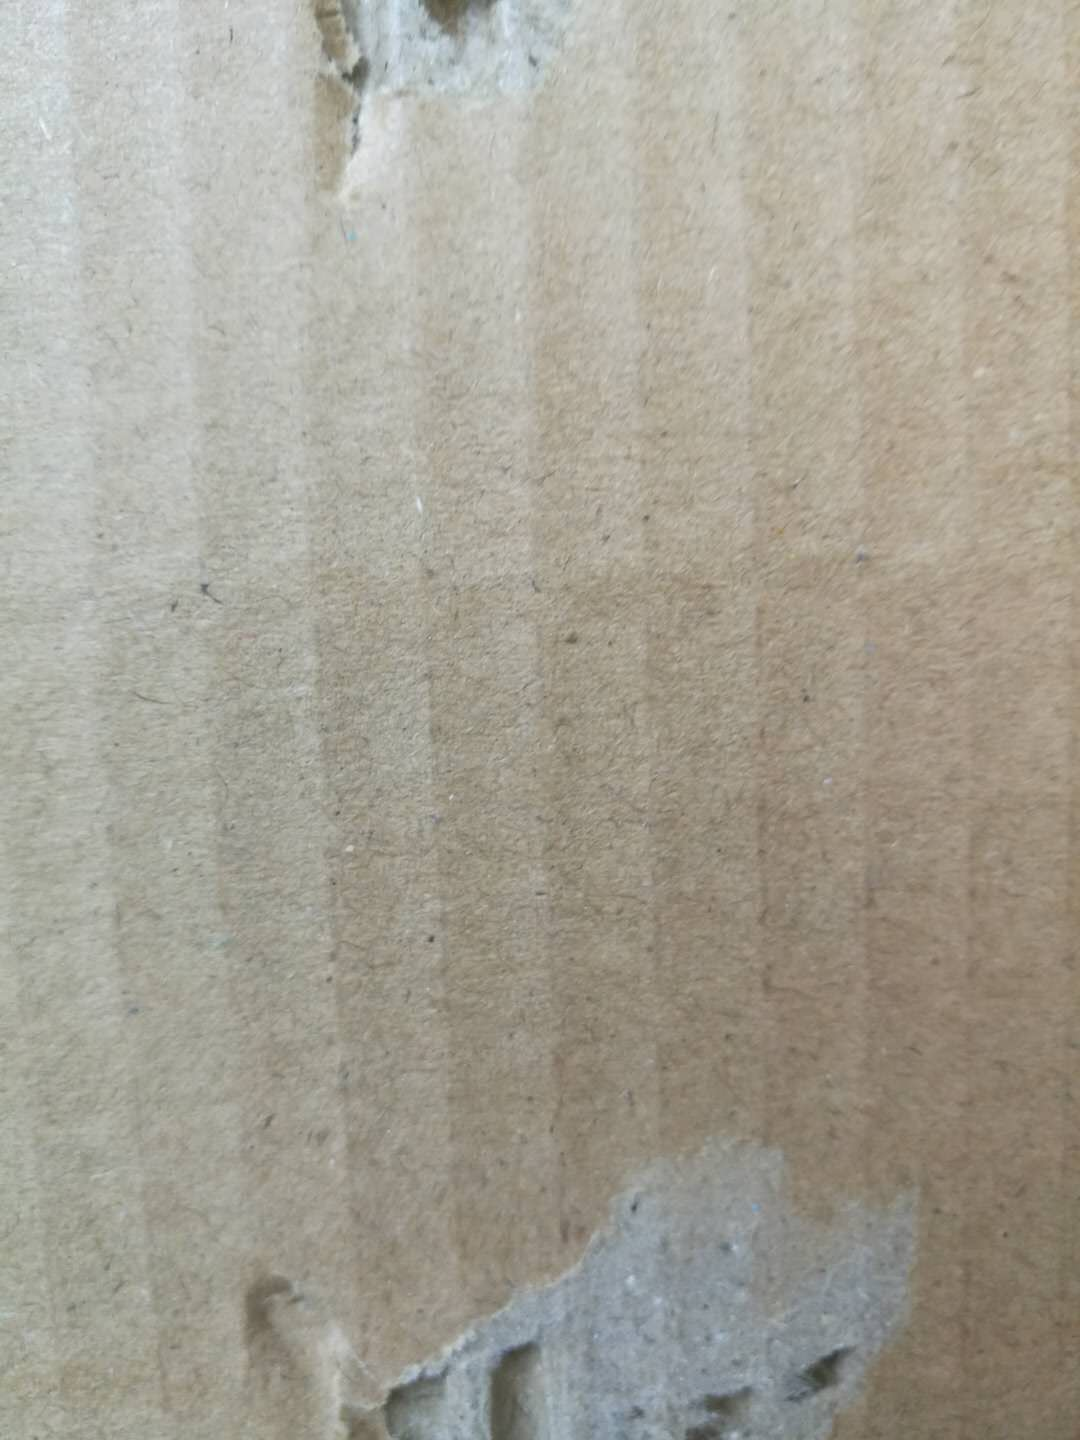defect: (226, 1102, 933, 1440), (251, 1, 663, 218)
